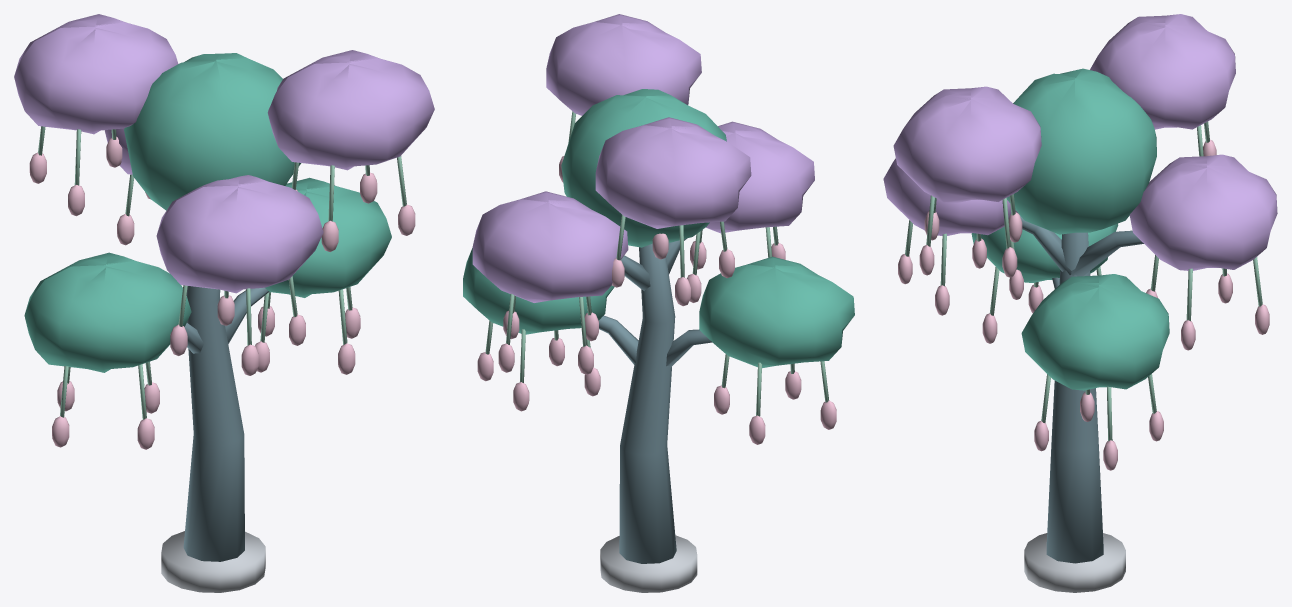
Rendered from can_moonwillow.glb.
3 renders of one model, left to right at view 1: azimuth 30°, elevation 25°; view 2: azimuth 150°, elevation 25°; view 3: azimuth 270°, elevation 25°, orthographic. The views are drawn at different scales.
Parts seen in each view (by area): view 1: CAN_moonwillow_crown_center, CAN_moonwillow_crown_5, CAN_moonwillow_crown_4, CAN_moonwillow_crown_3, CAN_moonwillow_crown_2, CAN_moonwillow_trunk, CAN_moonwillow_crown_0, CAN_moonwillow_root_collar, CAN_moonwillow_branch_0; view 2: CAN_moonwillow_crown_2, CAN_moonwillow_trunk, CAN_moonwillow_crown_3, CAN_moonwillow_crown_1, CAN_moonwillow_crown_5, CAN_moonwillow_crown_center, CAN_moonwillow_crown_4, CAN_moonwillow_crown_0, CAN_moonwillow_root_collar, CAN_moonwillow_branch_0, CAN_moonwillow_branch_3, CAN_moonwillow_branch_1; view 3: CAN_moonwillow_crown_center, CAN_moonwillow_crown_0, CAN_moonwillow_crown_5, CAN_moonwillow_crown_1, CAN_moonwillow_crown_2, CAN_moonwillow_trunk, CAN_moonwillow_crown_4, CAN_moonwillow_root_collar, CAN_moonwillow_crown_3, CAN_moonwillow_branch_1, CAN_moonwillow_branch_4.
Boxes of the visible parts, <box> form: CAN_moonwillow_crown_center: <box>124,53,301,210</box>; CAN_moonwillow_crown_5: <box>267,50,434,170</box>; CAN_moonwillow_crown_4: <box>156,175,323,293</box>; CAN_moonwillow_crown_3: <box>24,252,191,372</box>; CAN_moonwillow_crown_2: <box>14,14,178,134</box>; CAN_moonwillow_trunk: <box>183,286,244,561</box>; CAN_moonwillow_crown_0: <box>265,177,391,297</box>; CAN_moonwillow_root_collar: <box>161,531,265,592</box>; CAN_moonwillow_branch_0: <box>225,287,269,343</box>; CAN_moonwillow_crown_2: <box>595,117,751,228</box>; CAN_moonwillow_trunk: <box>619,243,676,563</box>; CAN_moonwillow_crown_3: <box>699,256,854,368</box>; CAN_moonwillow_crown_1: <box>472,191,628,302</box>; CAN_moonwillow_crown_5: <box>546,14,701,115</box>; CAN_moonwillow_crown_center: <box>561,89,726,247</box>; CAN_moonwillow_crown_4: <box>706,121,814,233</box>; CAN_moonwillow_crown_0: <box>463,248,614,334</box>; CAN_moonwillow_root_collar: <box>600,535,697,592</box>; CAN_moonwillow_branch_0: <box>599,315,638,364</box>; CAN_moonwillow_branch_3: <box>666,329,712,367</box>; CAN_moonwillow_branch_1: <box>621,255,650,290</box>; CAN_moonwillow_crown_center: <box>1006,68,1156,234</box>; CAN_moonwillow_crown_0: <box>1021,274,1169,390</box>; CAN_moonwillow_crown_5: <box>893,86,1041,203</box>; CAN_moonwillow_crown_1: <box>1129,154,1277,270</box>; CAN_moonwillow_crown_2: <box>1090,14,1235,129</box>; CAN_moonwillow_trunk: <box>1046,232,1103,563</box>; CAN_moonwillow_crown_4: <box>883,158,1018,235</box>; CAN_moonwillow_root_collar: <box>1024,533,1125,592</box>; CAN_moonwillow_crown_3: <box>971,223,1118,282</box>; CAN_moonwillow_branch_1: <box>1071,230,1143,276</box>; CAN_moonwillow_branch_4: <box>1019,215,1071,274</box>.
Size of the model in its own units: 2.73 by 3.68 by 2.55.
